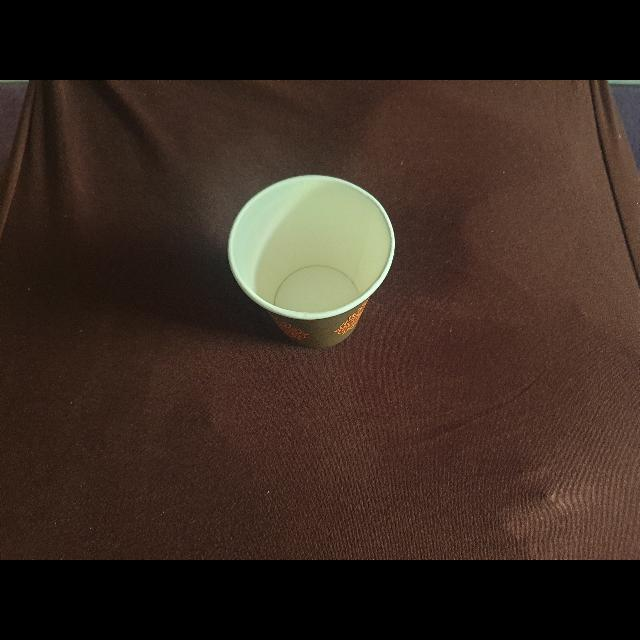trash: (223, 165, 401, 355)
